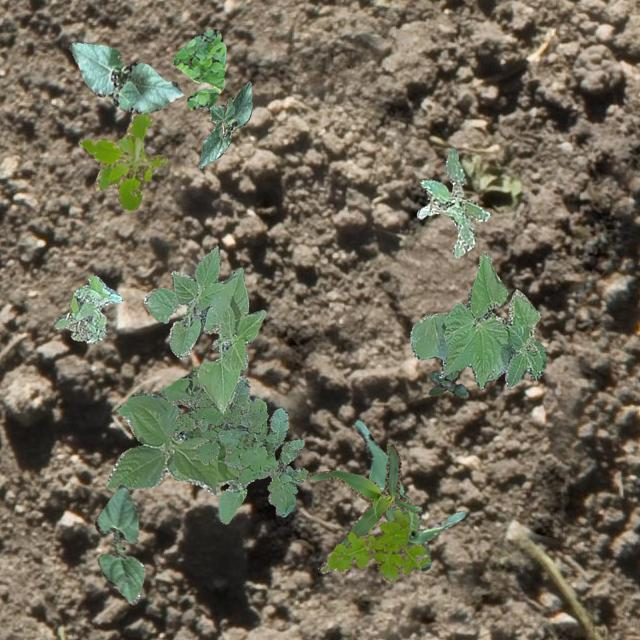crop: (104, 374, 266, 522), (143, 243, 264, 412), (410, 250, 544, 388), (354, 420, 464, 570), (306, 442, 422, 572), (68, 41, 182, 112), (94, 484, 144, 604), (198, 80, 250, 166)
weed: (160, 364, 308, 516), (78, 112, 166, 210), (416, 146, 488, 256), (324, 508, 428, 580), (54, 274, 122, 342), (172, 28, 224, 110), (428, 369, 467, 396)
